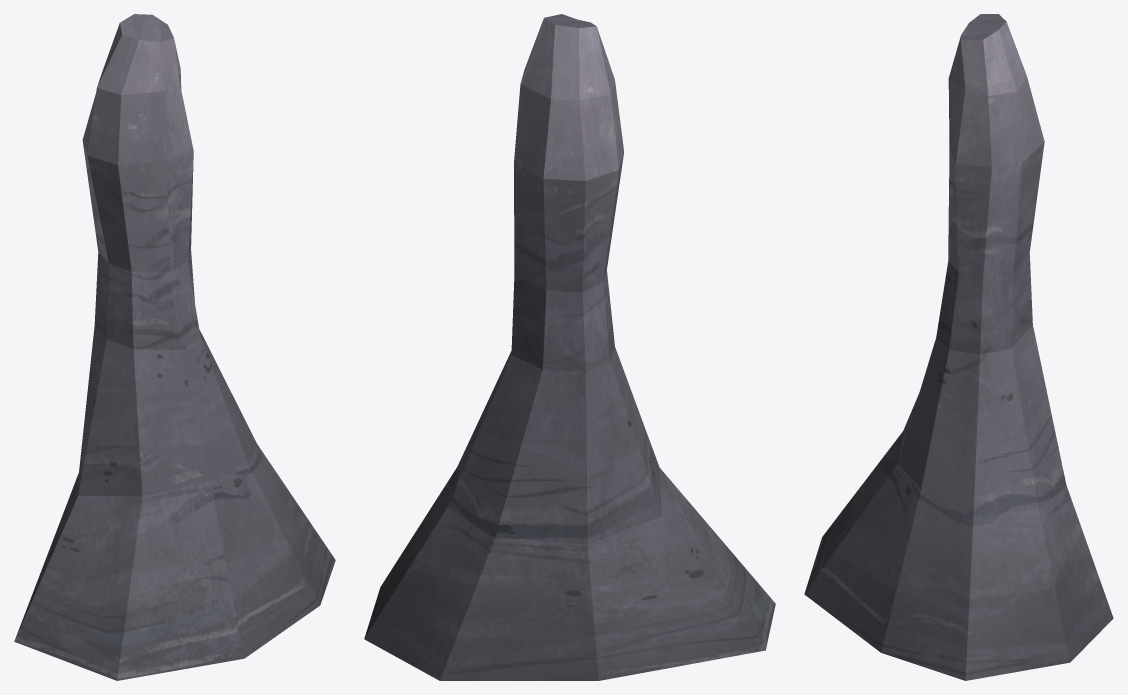
File: spire.fbx
3 renders of one model, left to right at view 1: azimuth 30°, elevation 25°; view 2: azimuth 150°, elevation 25°; view 3: azimuth 270°, elevation 25°, orthographic. The views are drawn at different scales.
Visible parts, largest first — view 1: spire; view 2: spire; view 3: spire.
Part boxes in pixels (x1,y1,x2,y2): spire: [14, 14, 335, 680]; spire: [364, 14, 775, 680]; spire: [804, 14, 1113, 680].
Size of the model in its own units: 379 by 617 by 302.
